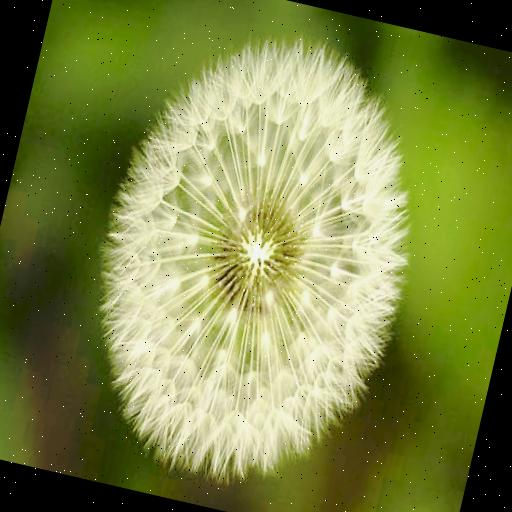dandelion: (62, 6, 458, 510)
